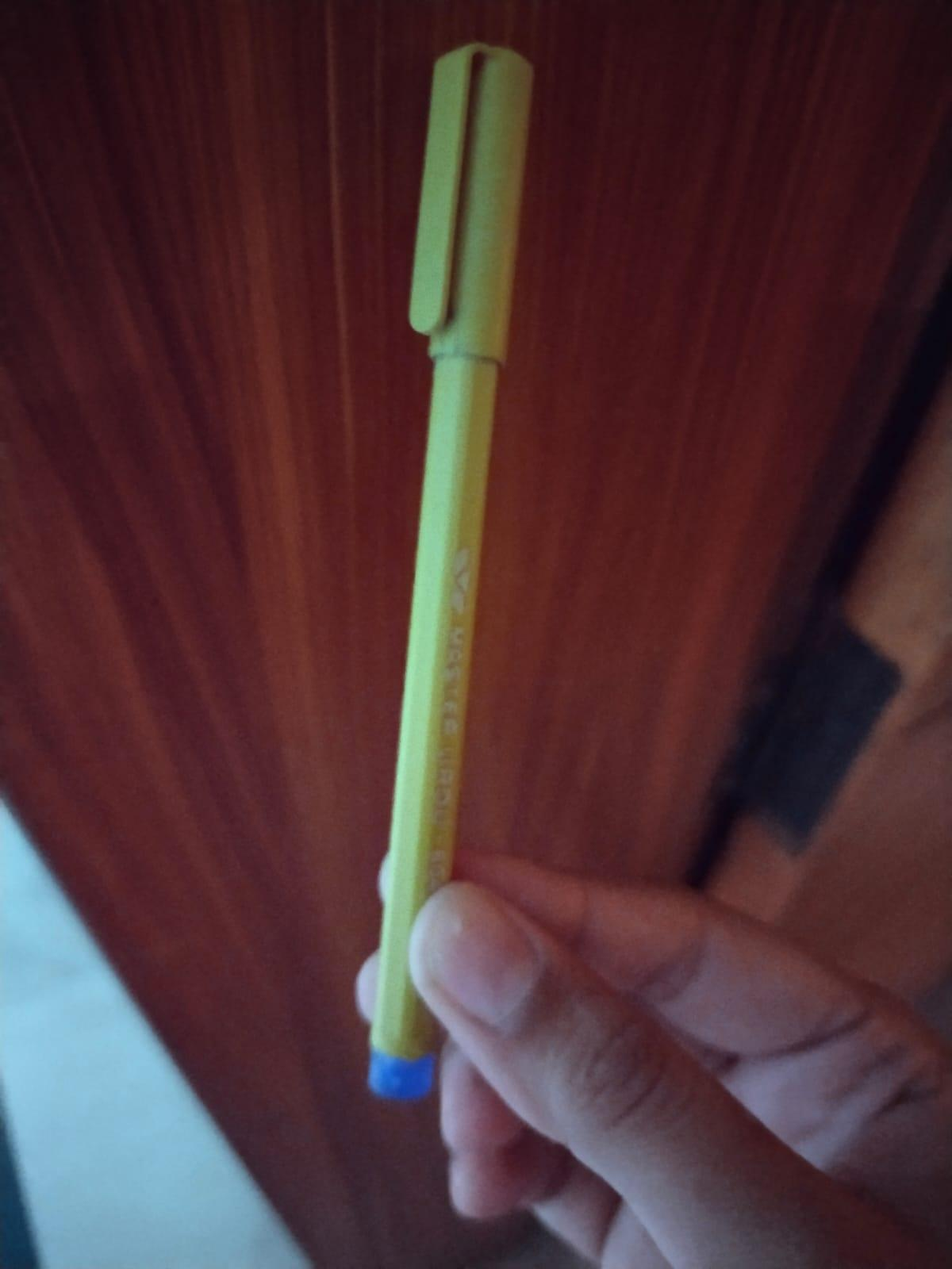marker: (368, 43, 532, 1099)
